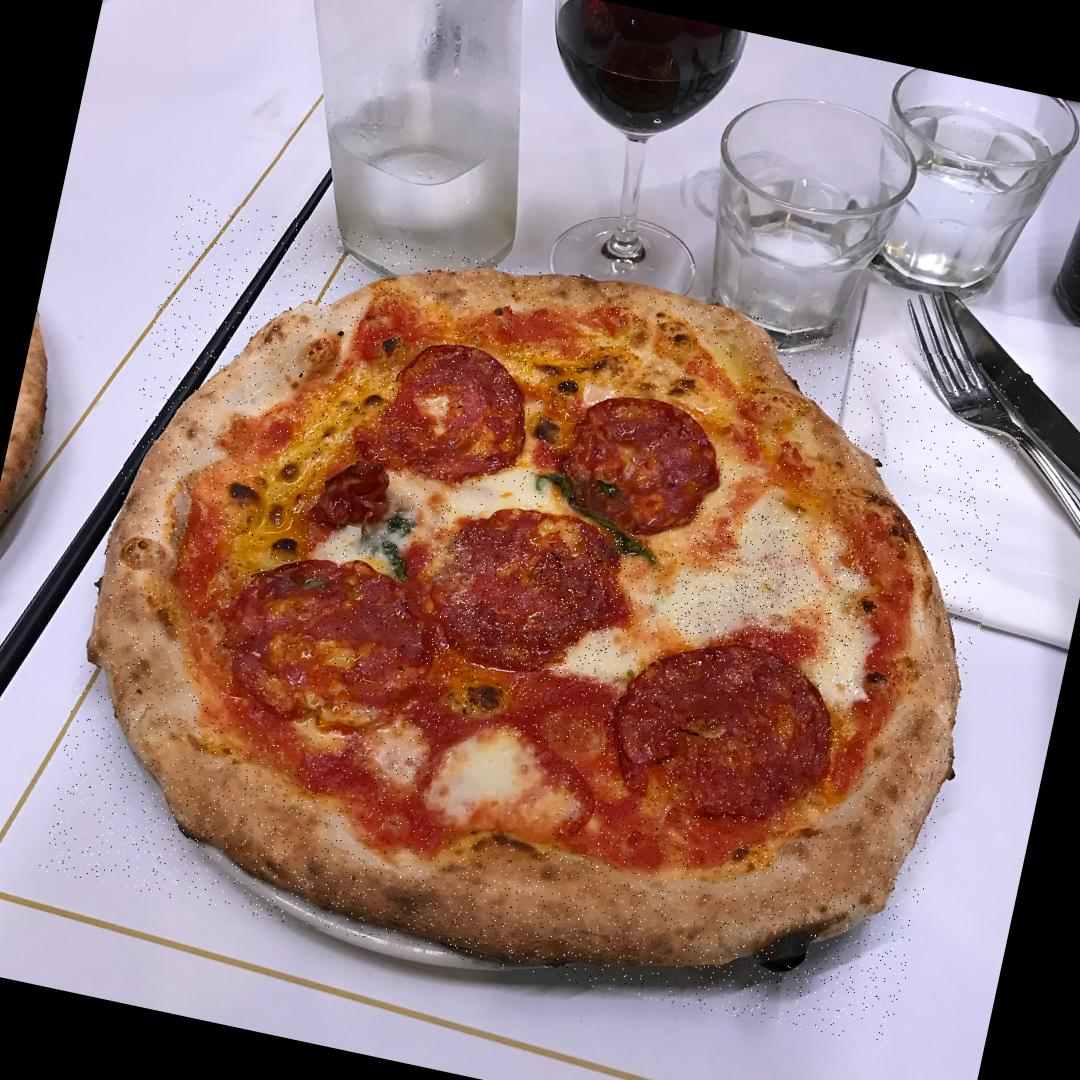Cheese: (667, 498, 877, 669), (423, 724, 569, 851), (343, 458, 443, 564), (454, 462, 573, 548)
Pepperoni: (590, 617, 848, 838), (197, 536, 442, 756), (410, 494, 634, 686), (557, 376, 733, 552), (370, 330, 540, 488), (316, 466, 396, 534)
Pizza: (37, 194, 1034, 1052)
